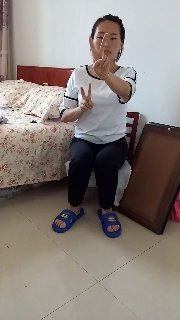hand: (89, 32, 110, 76), (79, 83, 93, 112)
